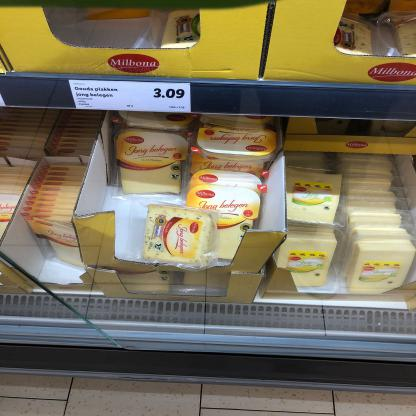prtg: (70, 81, 191, 113)
